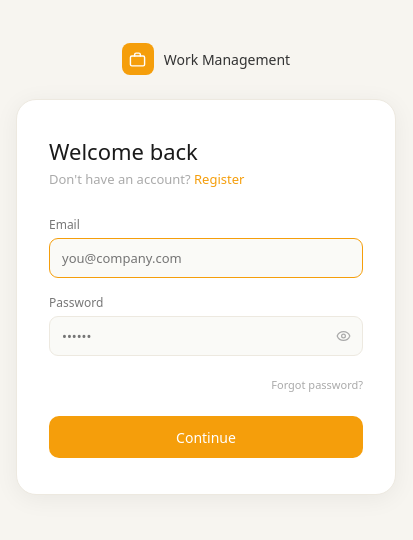
Test case: LoginPage Component › shows error message on invalid credentials submission
In the field labelled "Email": (206, 258) [49,238,363,278], type "wrong@company.com"
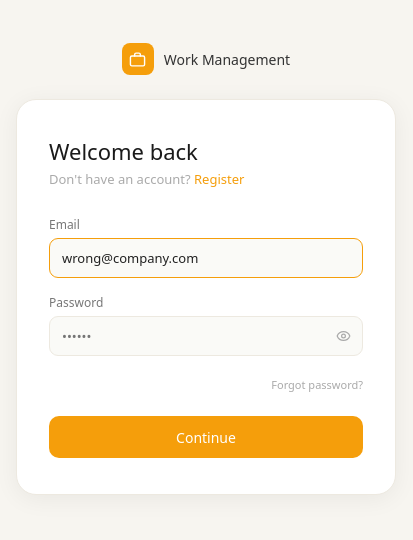
In the password field labelled "Password": (206, 336) [49,316,363,356], type "wrongpass"
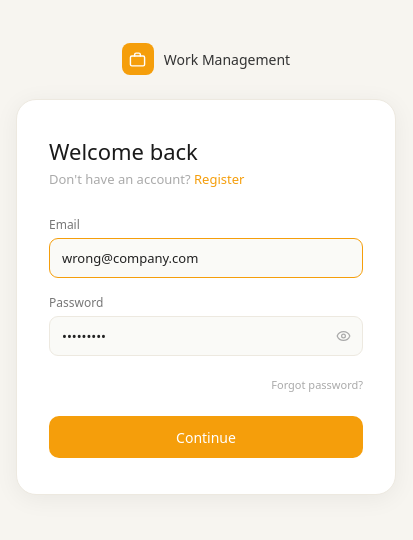
Click the button "Continue": (206, 437) [49,416,363,458]
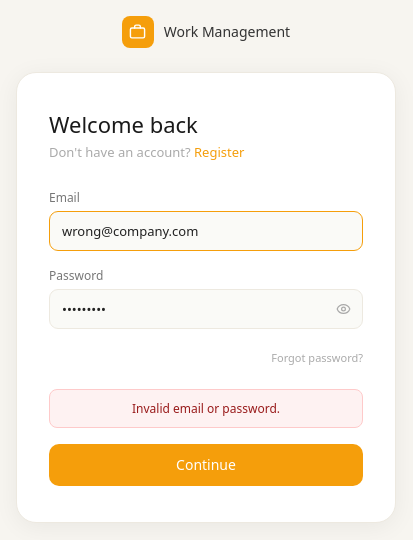
Expected: the message shows "Invalid email or password", [132,400,280,416]
